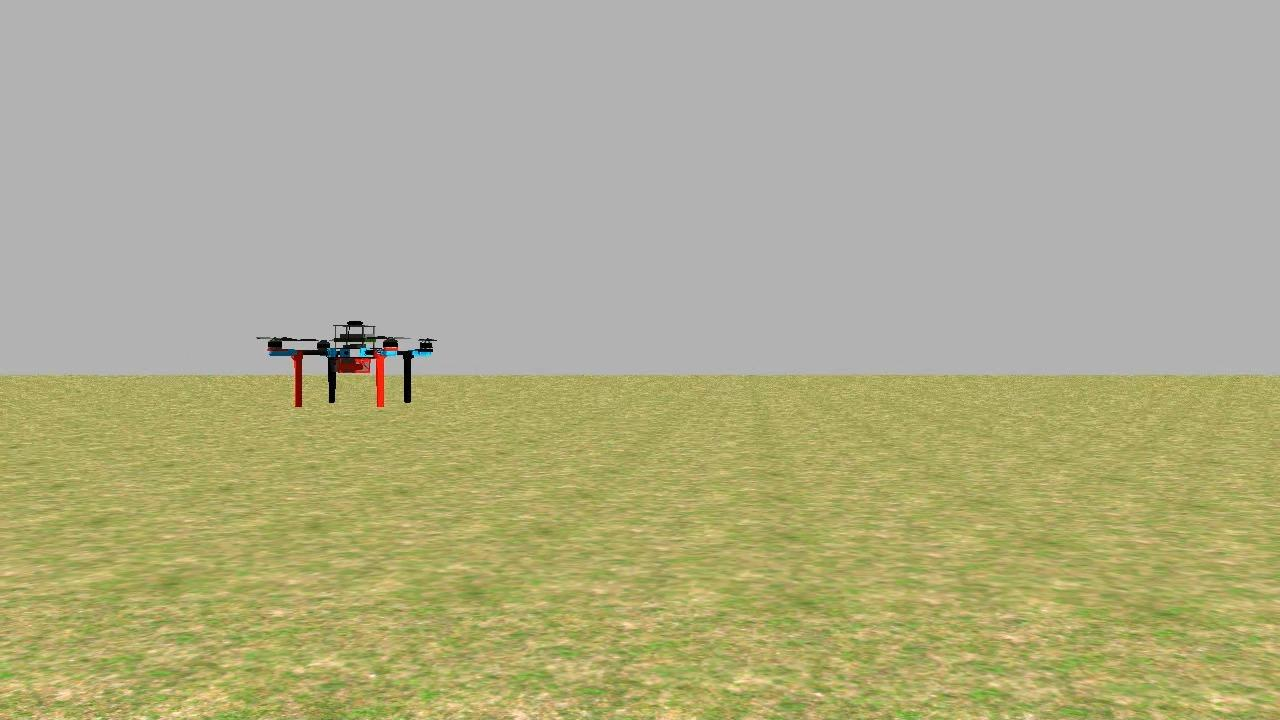UAV: (259, 304, 439, 419)
